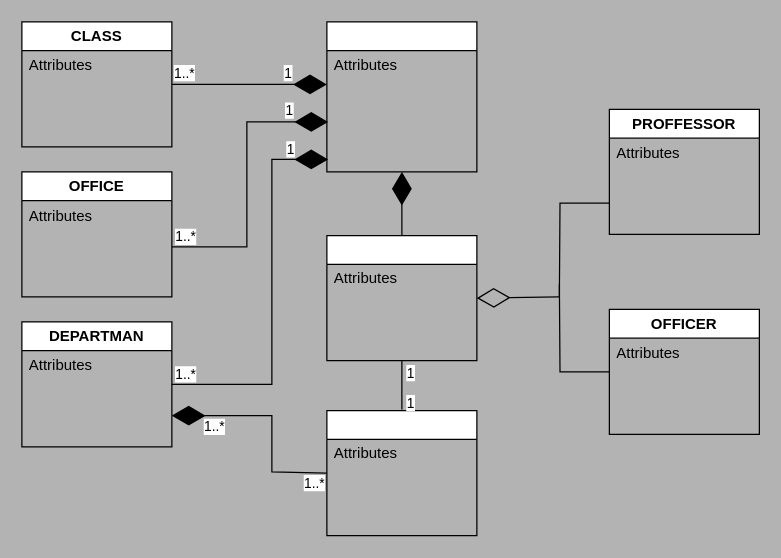
This 781x558 diagram has some shape labels left out. The shapes that lost their labels are listed below. From the top down, each one's box as (x1, y1, x2, y2) in pixels, then its label:
(326, 21, 477, 172): UNIVERSITY
(326, 234, 477, 361): PERSONEL
(326, 409, 477, 536): OFFICES
